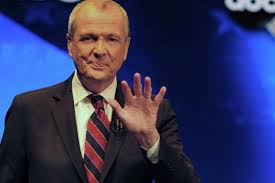palm: (108, 71, 167, 136)
